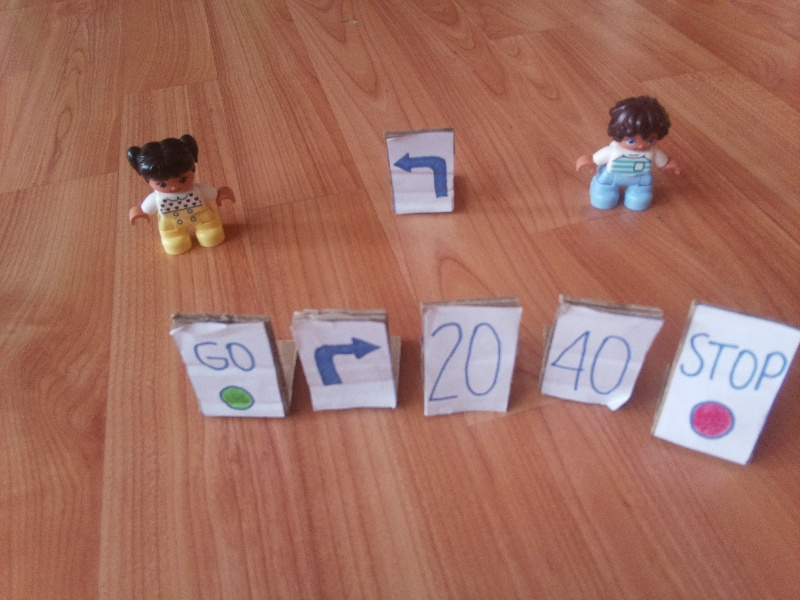20: (430, 316, 504, 407)
40: (549, 323, 633, 396)
go: (192, 330, 268, 412)
person: (116, 133, 241, 255), (578, 93, 683, 218)
stop: (675, 324, 787, 442)
turn left: (395, 145, 454, 201)
turn right: (308, 331, 381, 393)
